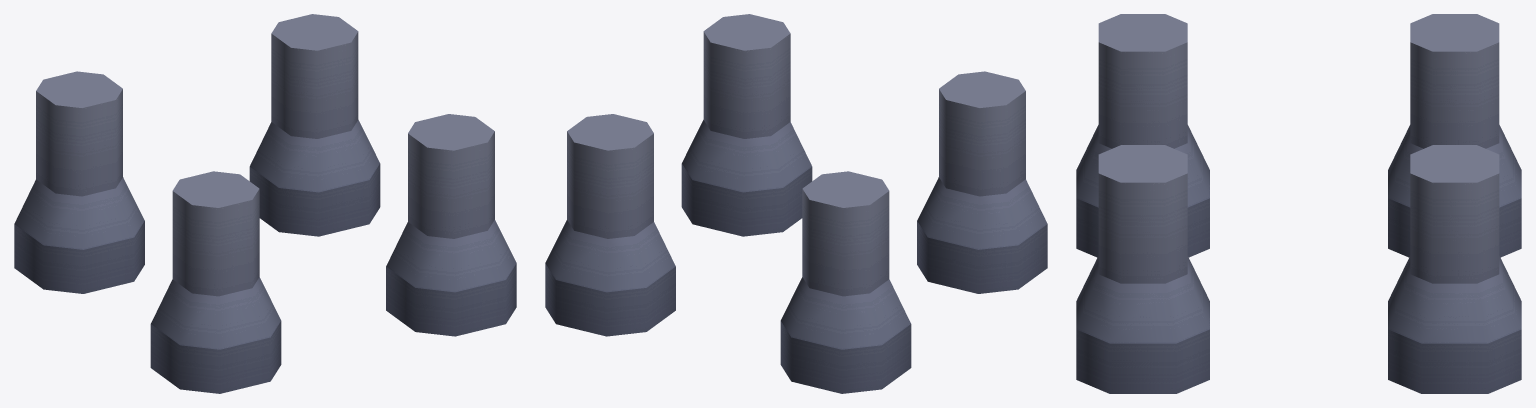
The model's file is support-four-bottom-col.glb.
3 renders of one model, left to right at view 1: azimuth 30°, elevation 25°; view 2: azimuth 150°, elevation 25°; view 3: azimuth 270°, elevation 25°, orthographic. The views are drawn at different scales.
Visible parts, largest first — view 1: support-four-bottom-col; view 2: support-four-bottom-col; view 3: support-four-bottom-col.
Part boxes in pixels (x1,y1,x2,y2): support-four-bottom-col: [14, 14, 516, 393]; support-four-bottom-col: [545, 14, 1047, 393]; support-four-bottom-col: [1076, 14, 1521, 393].
Size of the model in its own units: 0.9969 by 0.5 by 1.
1 material, 1 textured.
